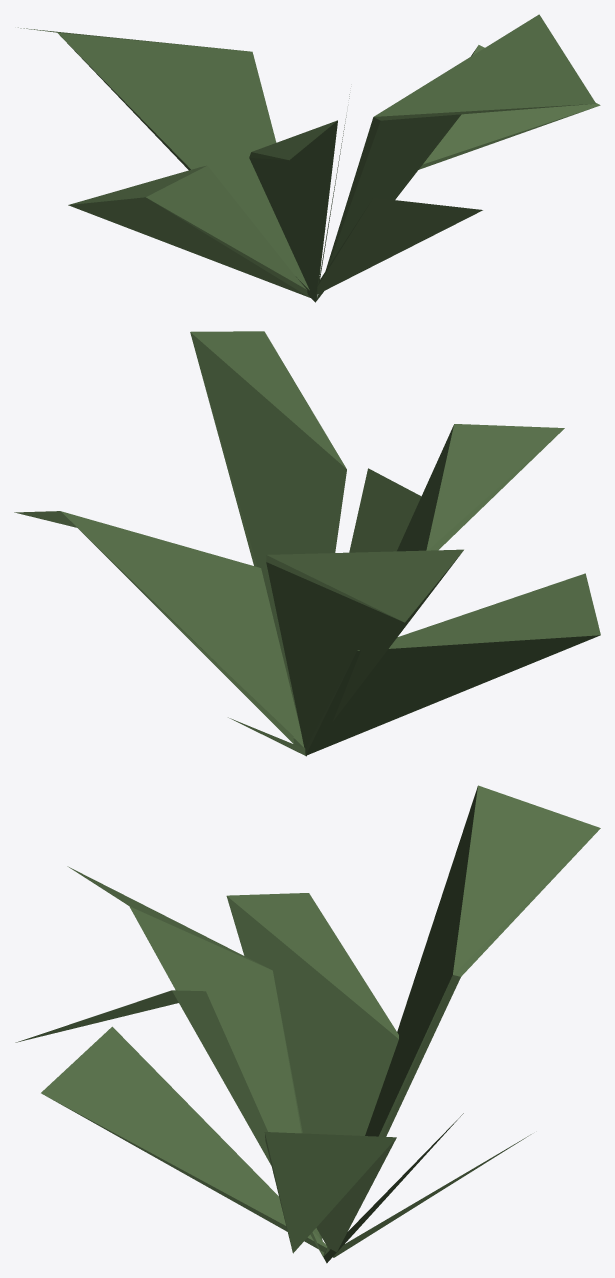
Rendered from Plant_1.lod3.glb.
The picture shows the model from 3 angles, top to bottom: view 1: azimuth 30°, elevation 25°; view 2: azimuth 150°, elevation 25°; view 3: azimuth 270°, elevation 25°; orthographic projection. The views are drawn at different scales.
Visible parts, largest first — view 1: Plant_1; view 2: Plant_1; view 3: Plant_1.
Part boxes in pixels (x1,y1,x2,y2): Plant_1: (18, 14, 600, 302); Plant_1: (14, 331, 600, 756); Plant_1: (15, 785, 600, 1263).
Bounding box in the file's own units: 1.01 × 0.5378 × 0.7619.
